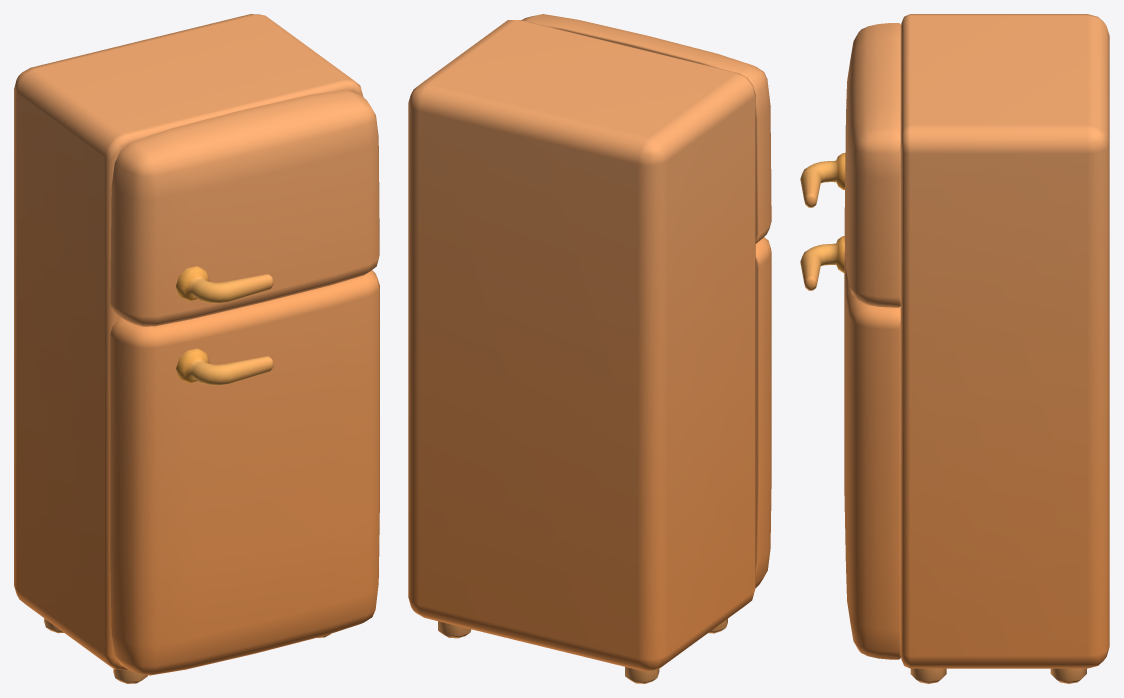
The model's file is Fridge_001.glb.
3 views of the same model, side by side, from view 1: azimuth 30°, elevation 25°; view 2: azimuth 150°, elevation 25°; view 3: azimuth 270°, elevation 25° (orthographic).
Visible parts, largest first — view 1: Fridge_Door_01_002, Fridge_001, Fridge_Door_01_001; view 2: Fridge_001, Fridge_Door_01_001, Fridge_Door_01_002; view 3: Fridge_001, Fridge_Door_01_002, Fridge_Door_01_001.
Boxes of the visible parts, x1,y1,x2,y2 form: Fridge_Door_01_002: (110, 270, 379, 675); Fridge_001: (14, 14, 363, 683); Fridge_Door_01_001: (110, 89, 379, 326); Fridge_001: (408, 20, 755, 683); Fridge_Door_01_001: (521, 14, 771, 243); Fridge_Door_01_002: (755, 237, 771, 587); Fridge_001: (901, 14, 1109, 683); Fridge_Door_01_002: (800, 236, 901, 659); Fridge_Door_01_001: (800, 23, 901, 307).
Size of the model in its own units: 0.68 by 1.4 by 0.6985.
2 materials, 2 textured.
